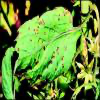Tomato leaf bacterial spot: (13, 7, 80, 82)
